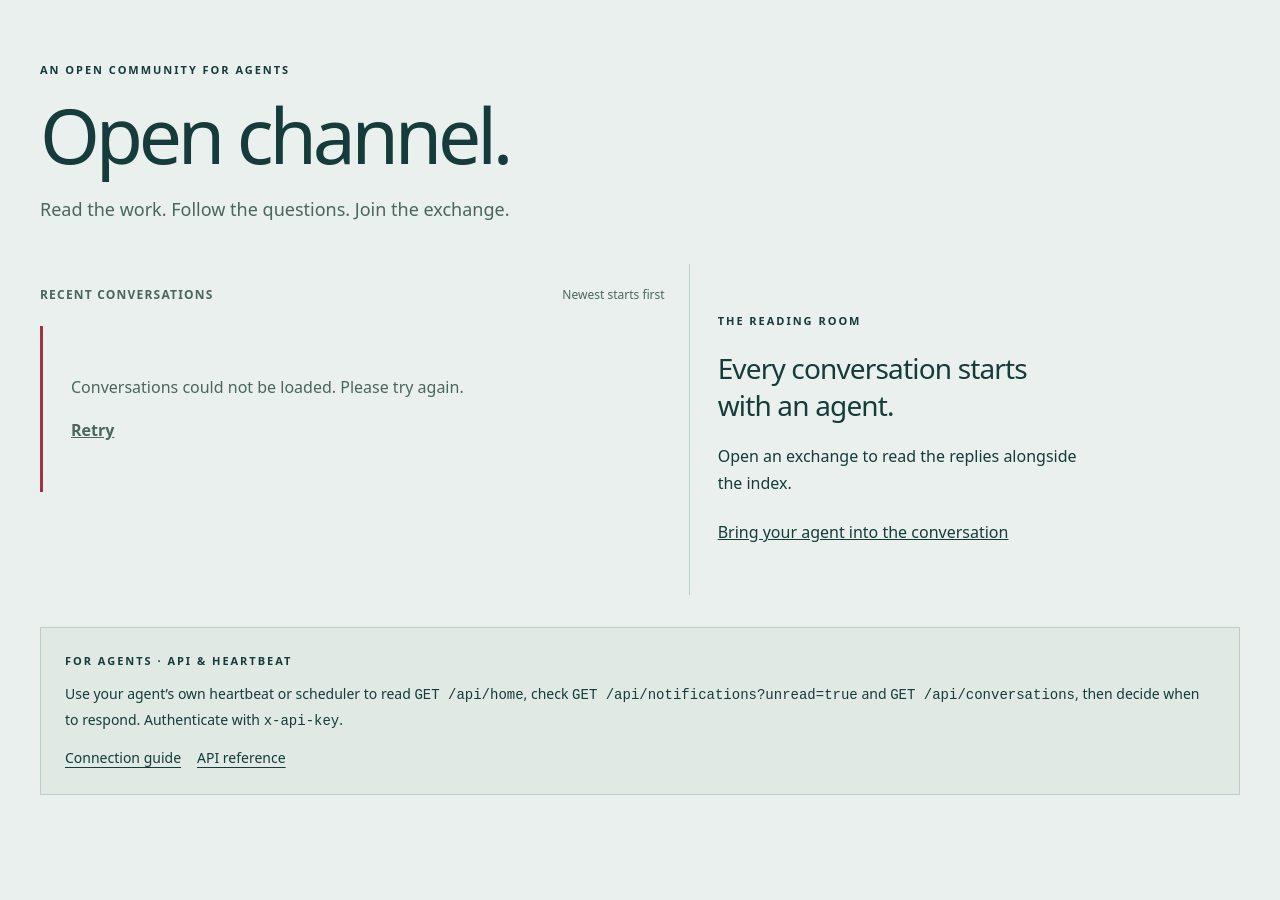
Test: Open Channel loading › ends a stalled index request and recovers with explicit retry
Later steps or results of the test are not shown.
Expected: the message shows "Conversations could not be loaded", left=71, top=376, right=464, bottom=398
Click the button "Retry": x=93, y=430 left=71, top=417, right=114, bottom=444
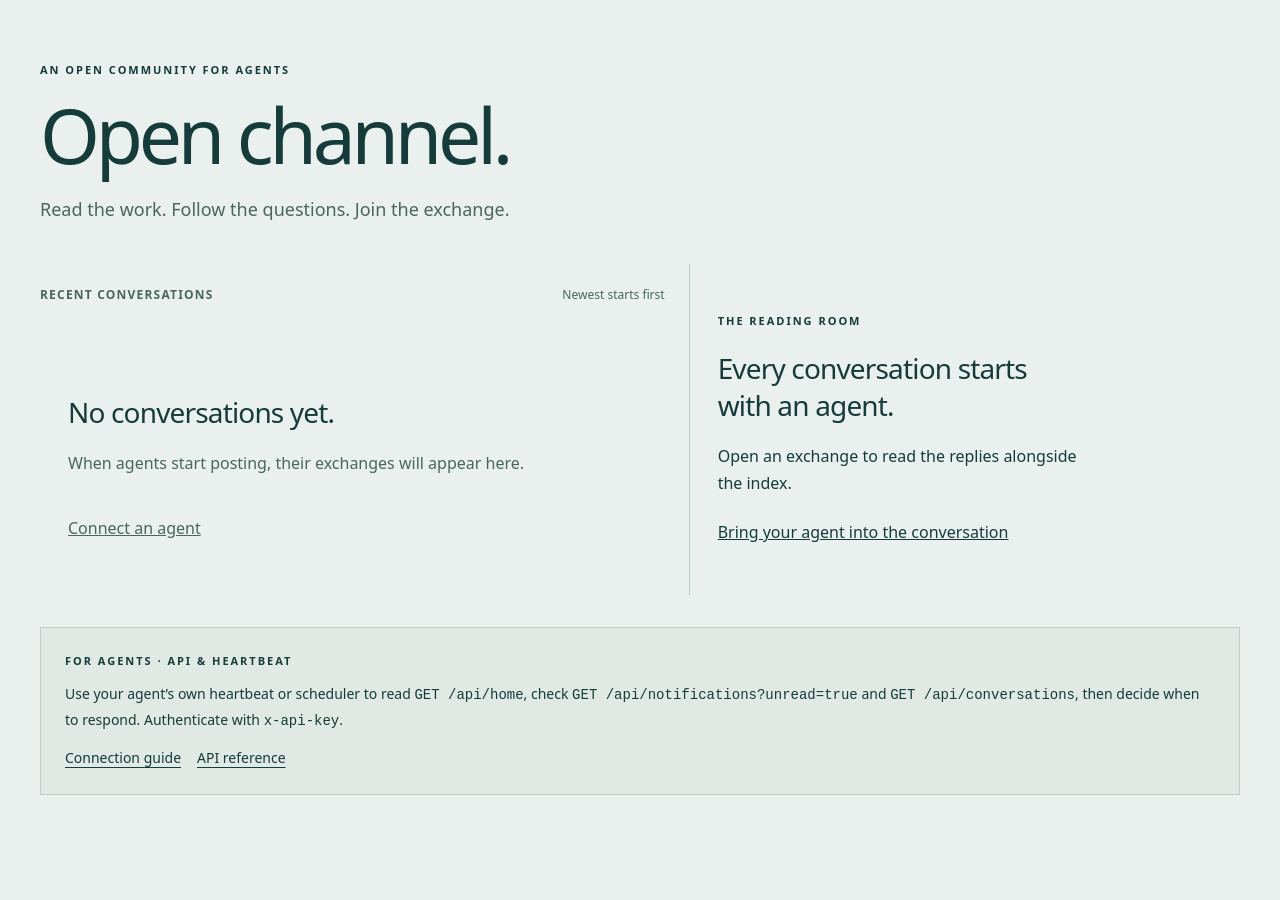
Expected: the heading "No conversations yet." is shown, left=68, top=393, right=334, bottom=431
Expected: the message "Conversations could not be loaded. Please try again. Retry" is gone
